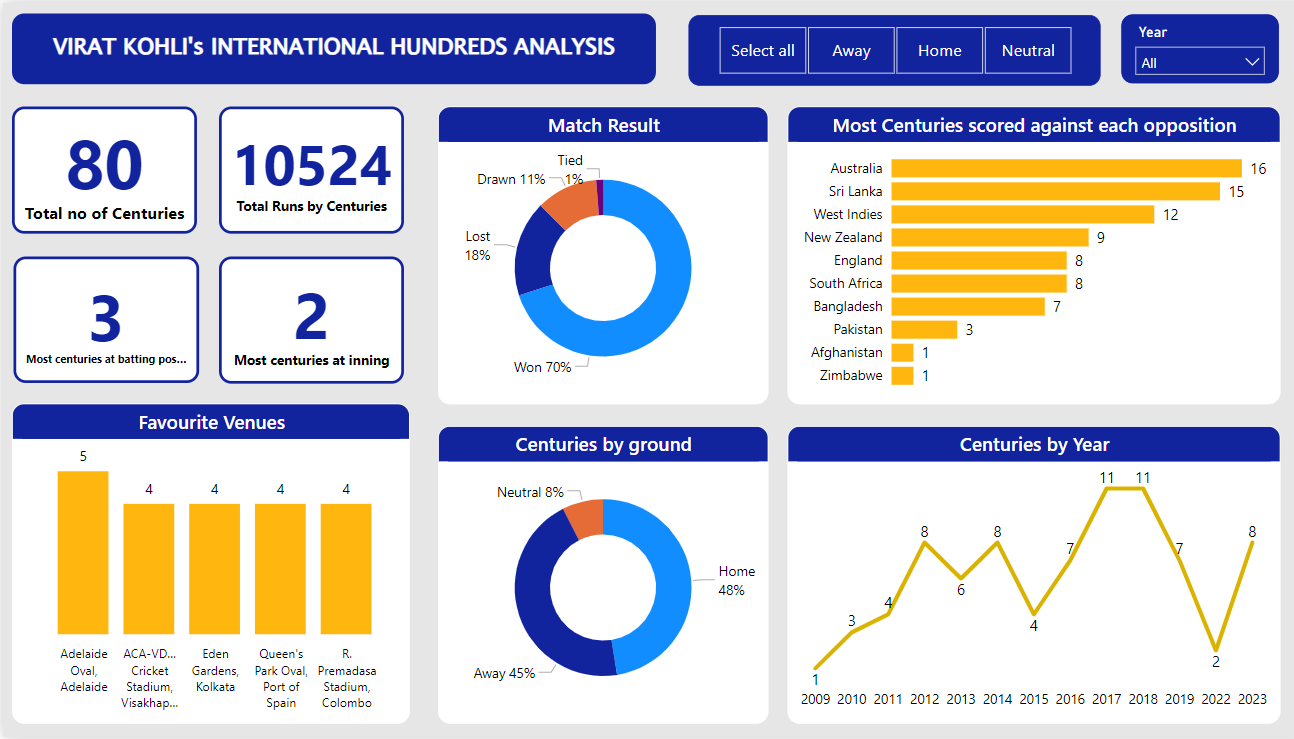

The page's visual inventory and layout, read from the dashboard file:
{"tool":"powerbi","page":{"name":"Page 1","canvas":[1280,720],"ordinal":0},"visuals":[{"type":"textbox","box":[9.1,10.6,631.4,69.7],"z":0},{"type":"barChart","title":"Most Centuries scored against each opposition","fields":{"Category":["cleaned csv file.opponent"],"Y":["cleaned csv file.century_scored"]},"box":[769.2,101.5,483,292.2],"z":1000},{"type":"lineChart","title":"Centuries by Year","fields":{"Y":["cleaned csv file.century_scored"],"Category":["cleaned csv file.date.Variation.Date Hierarchy.Year"]},"box":[769.2,414.9,483,292.2],"z":2000},{"type":"donutChart","title":"Centuries by ground","fields":{"Category":["cleaned csv file.ground"],"Y":["cleaned csv file.century_scored"]},"box":[426.3,415.3,323.7,292.1],"z":3000},{"type":"donutChart","title":"Match Result","fields":{"Y":["cleaned csv file.century_scored"],"Category":["cleaned csv file.result"]},"box":[426.3,101.1,323.7,292.1],"z":4000},{"type":"columnChart","title":"Favourite Venues","fields":{"Category":["cleaned csv file.venue"],"Y":["cleaned csv file.century_scored"]},"box":[9.5,393.2,390,314.2],"z":5000},{"type":"card","fields":{"Values":["cleaned csv file.century_scored"]},"box":[9.5,101.1,181.6,124.7],"z":6000},{"type":"card","fields":{"Values":["cleaned csv file.batting_position"]},"box":[10.6,248.3,181.7,124.2],"z":7000},{"type":"card","fields":{"Values":["cleaned csv file.innings"]},"box":[211.6,247.9,181.6,124.7],"z":8000},{"type":"card","fields":{"Values":["cleaned csv file.runs"]},"box":[211.6,101.1,181.6,124.7],"z":9000},{"type":"slicer","fields":{"Values":["cleaned csv file.ground"]},"box":[672.6,11.1,404.2,69.5],"z":10000},{"type":"slicer","fields":{"Values":["cleaned csv file.date.Variation.Date Hierarchy.Year"]},"box":[1096.3,10.6,156,69.7],"z":11000}]}

Visuals, with their boxes in screenshot pixels (x1, y1, x2, y2), scaled from the page's 1280x720 canvas onto the 1294x739 screenshot:
textbox: detection(9, 11, 648, 82)
"Most Centuries scored against each opposition" barChart: detection(778, 104, 1266, 404)
"Centuries by Year" lineChart: detection(778, 426, 1266, 726)
"Centuries by ground" donutChart: detection(431, 426, 758, 726)
"Match Result" donutChart: detection(431, 104, 758, 404)
"Favourite Venues" columnChart: detection(10, 404, 404, 726)
card - cleaned csv file.century_scored: detection(10, 104, 193, 232)
card - cleaned csv file.batting_position: detection(11, 255, 194, 382)
card - cleaned csv file.innings: detection(214, 254, 398, 382)
card - cleaned csv file.runs: detection(214, 104, 398, 232)
slicer - cleaned csv file.ground: detection(680, 11, 1089, 83)
slicer - cleaned csv file.date.Variation.Date Hierarchy.Year: detection(1108, 11, 1266, 82)
